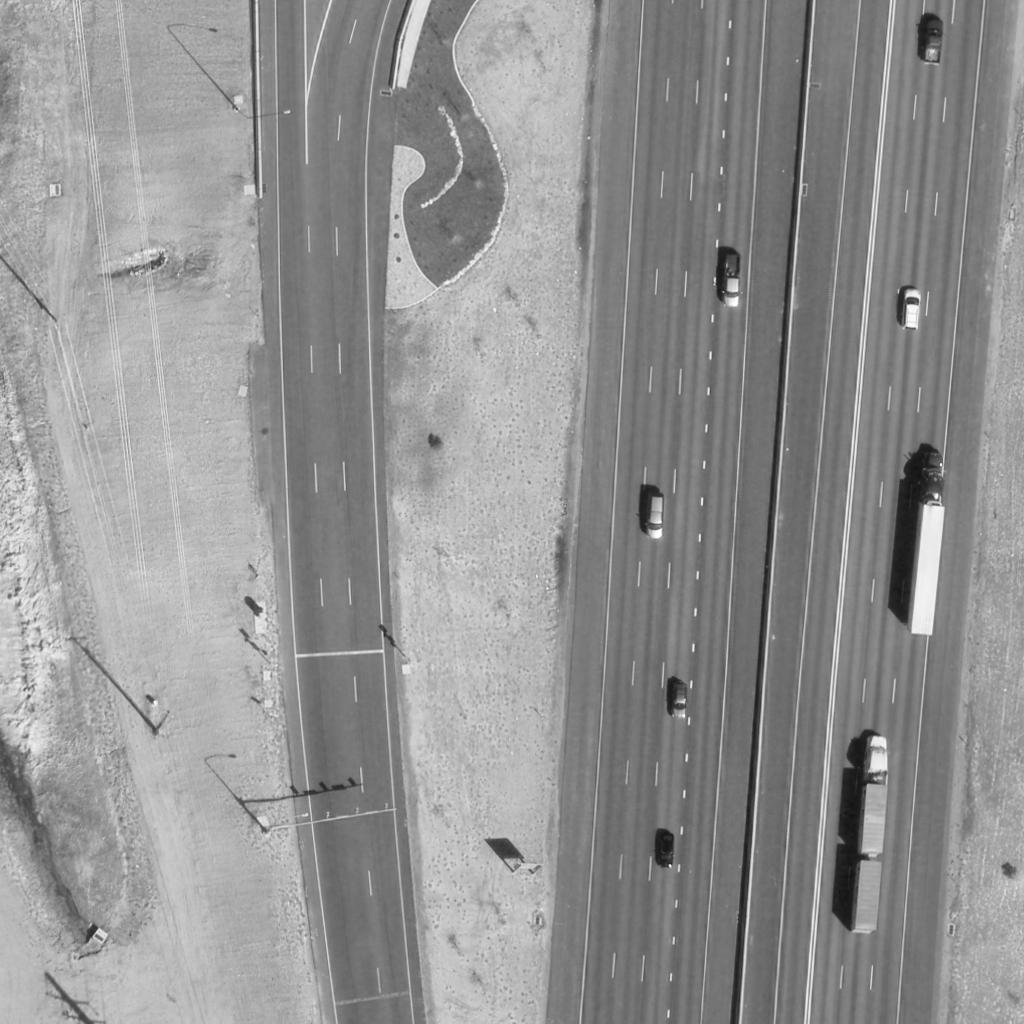vehicle: (905, 452, 949, 636), (851, 735, 889, 935), (897, 287, 925, 333), (721, 252, 741, 308), (923, 17, 945, 67), (647, 496, 665, 540), (658, 833, 676, 869), (672, 682, 686, 718)
